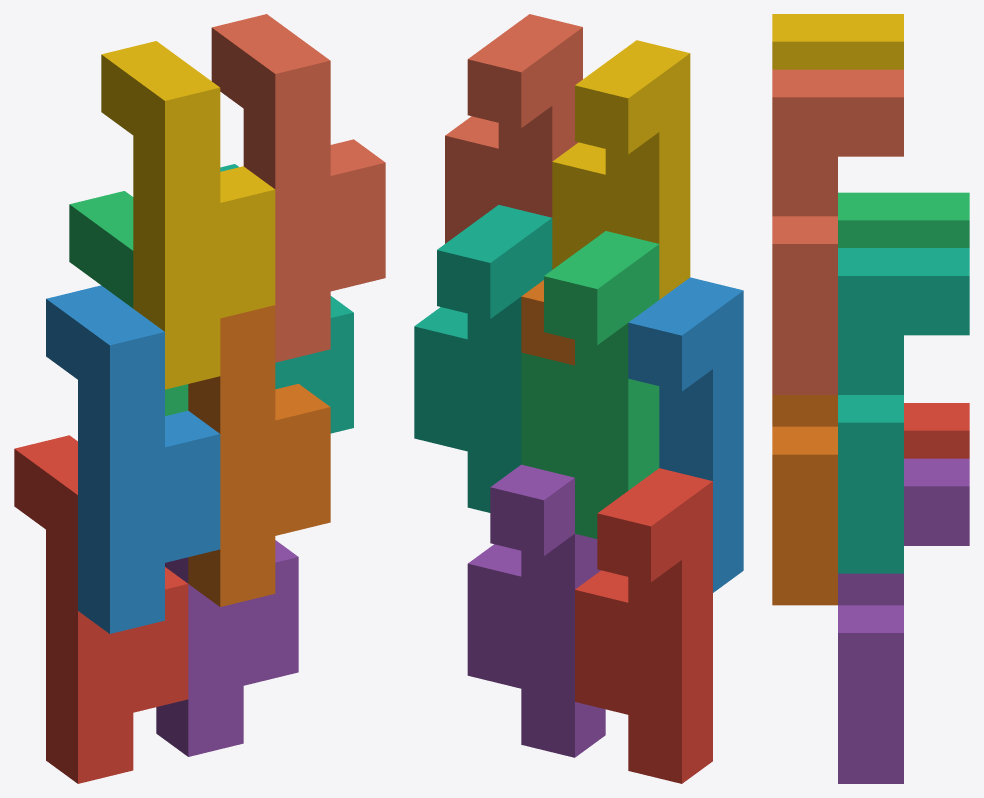
The model's file is tiling.obj.
The picture shows the model from 3 angles, left to right: view 1: azimuth 30°, elevation 25°; view 2: azimuth 150°, elevation 25°; view 3: azimuth 270°, elevation 25°; orthographic projection. The views are drawn at different scales.
Visible parts, largest first — view 1: copy_1_domain_2, copy_1_domain_4, copy_1_domain_8, copy_1_domain_1, copy_1_domain_6, copy_1_domain_5, copy_1_domain_3, copy_1_domain_7; view 2: copy_1_domain_1, copy_1_domain_3, copy_1_domain_5, copy_1_domain_7, copy_1_domain_4, copy_1_domain_2, copy_1_domain_8, copy_1_domain_6; view 3: copy_1_domain_7, copy_1_domain_8, copy_1_domain_5, copy_1_domain_6, copy_1_domain_3, copy_1_domain_4, copy_1_domain_1.
Part boxes in pixels (left/top/right/bottom): copy_1_domain_2: left=46, top=285, right=220, bottom=633; copy_1_domain_4: left=101, top=41, right=275, bottom=389; copy_1_domain_8: left=211, top=14, right=385, bottom=362; copy_1_domain_1: left=14, top=435, right=188, bottom=783; copy_1_domain_6: left=188, top=305, right=330, bottom=606; copy_1_domain_5: left=156, top=540, right=298, bottom=756; copy_1_domain_3: left=69, top=191, right=188, bottom=416; copy_1_domain_7: left=220, top=164, right=353, bottom=433; copy_1_domain_1: left=575, top=468, right=712, bottom=783; copy_1_domain_3: left=521, top=231, right=659, bottom=538; copy_1_domain_5: left=467, top=464, right=605, bottom=757; copy_1_domain_7: left=414, top=205, right=552, bottom=512; copy_1_domain_4: left=552, top=40, right=690, bottom=299; copy_1_domain_2: left=628, top=277, right=743, bottom=592; copy_1_domain_8: left=445, top=14, right=582, bottom=243; copy_1_domain_6: left=521, top=280, right=574, bottom=365; copy_1_domain_7: left=838, top=248, right=969, bottom=573; copy_1_domain_8: left=772, top=69, right=903, bottom=394; copy_1_domain_5: left=838, top=458, right=969, bottom=783; copy_1_domain_6: left=772, top=395, right=837, bottom=605; copy_1_domain_3: left=838, top=192, right=969, bottom=247; copy_1_domain_4: left=772, top=14, right=903, bottom=69; copy_1_domain_1: left=904, top=403, right=969, bottom=458.
Size of the model in its own units: 5 by 12 by 3.
